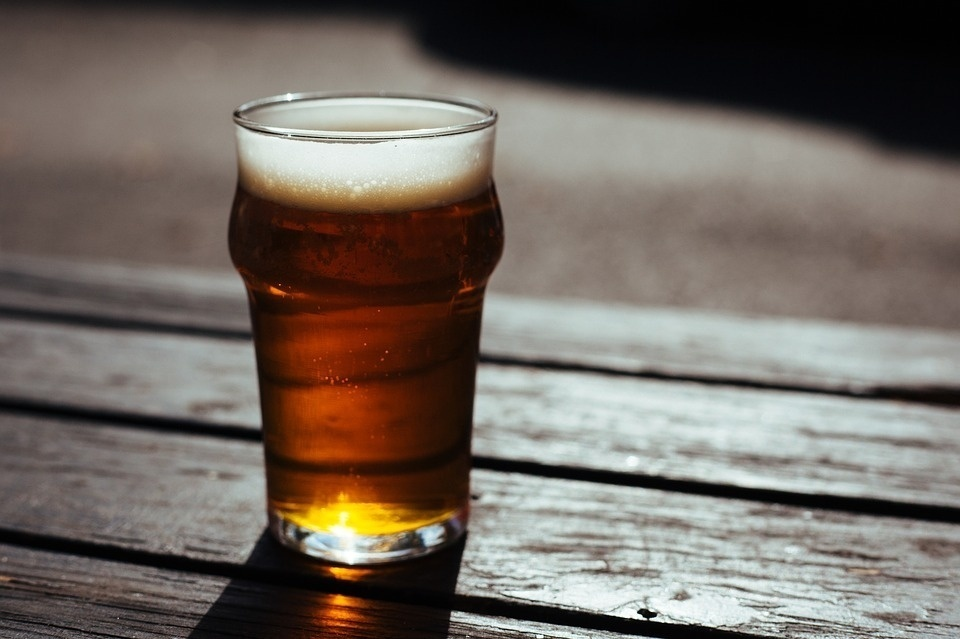whiskey: (222, 95, 509, 557)
